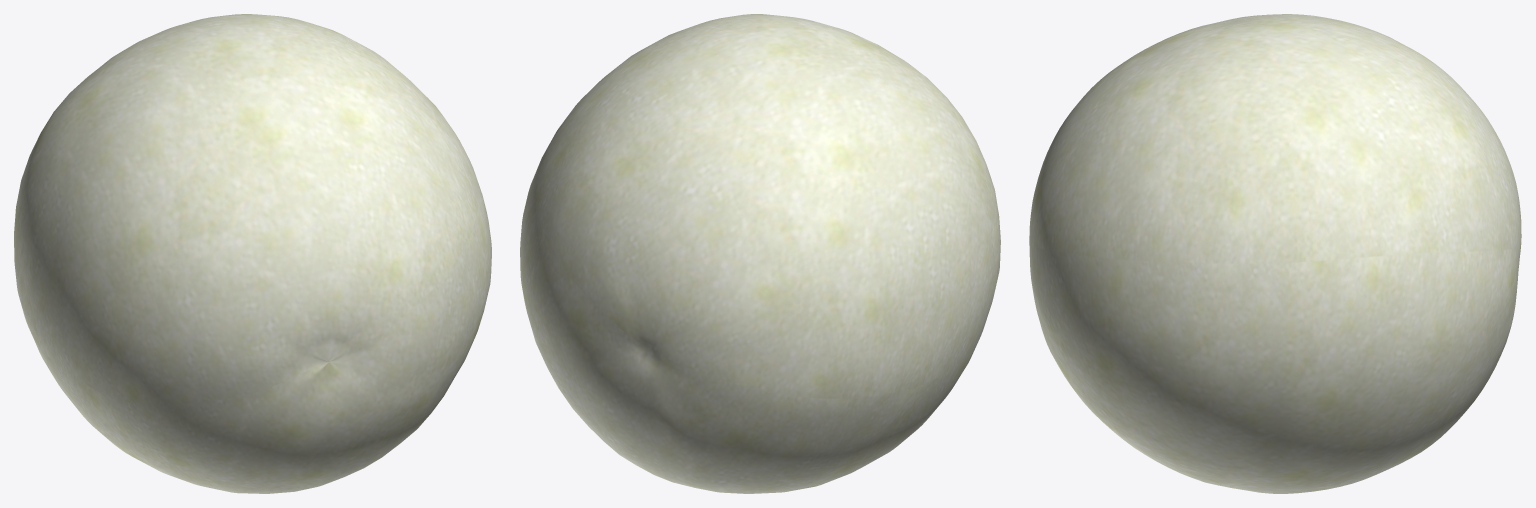
Rendered from WatermelonPeelFlesh.obj.
3 views of the same model, side by side, from view 1: azimuth 30°, elevation 25°; view 2: azimuth 150°, elevation 25°; view 3: azimuth 270°, elevation 25° (orthographic).
Visible parts, largest first — view 1: WatermelonPeelFlesh; view 2: WatermelonPeelFlesh; view 3: WatermelonPeelFlesh.
Part boxes in pixels (x1=…): WatermelonPeelFlesh: x1=14, y1=14, x2=491, y2=493; WatermelonPeelFlesh: x1=520, y1=14, x2=1000, y2=493; WatermelonPeelFlesh: x1=1029, y1=14, x2=1521, y2=493.
Bounding box in the file's own units: 0.2605 × 0.2653 × 0.271.
1 material, 1 textured.
